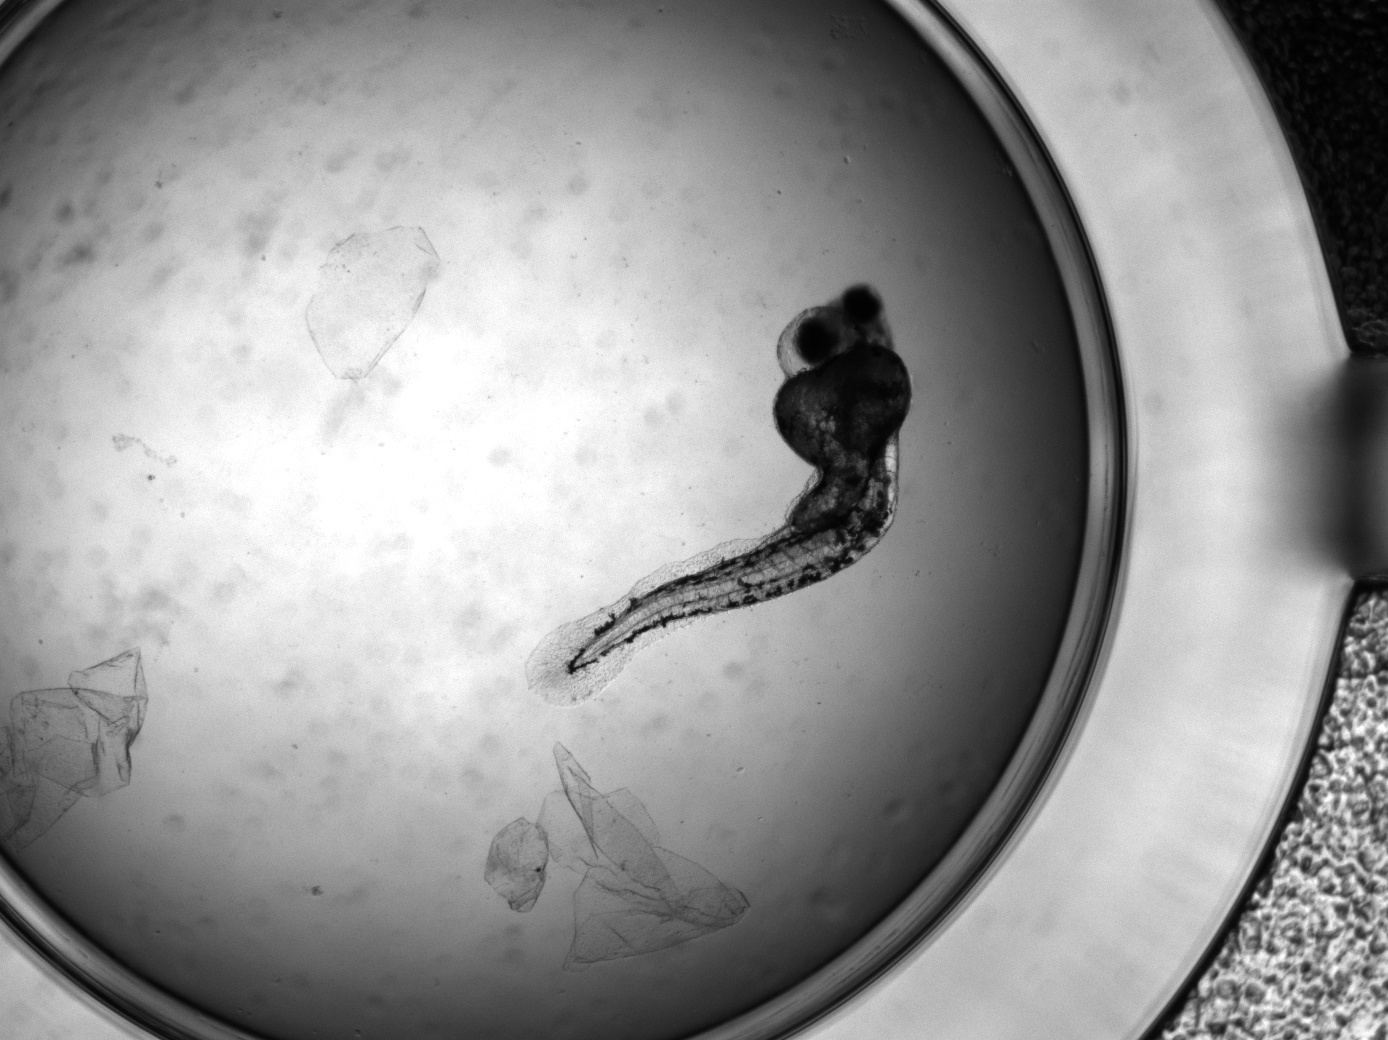debris: (485, 744, 750, 968), (1, 647, 149, 851), (305, 220, 444, 382)
embryo: (568, 282, 914, 673)
eye: (795, 319, 839, 364), (842, 283, 883, 326)
yolksac: (773, 344, 910, 470)
